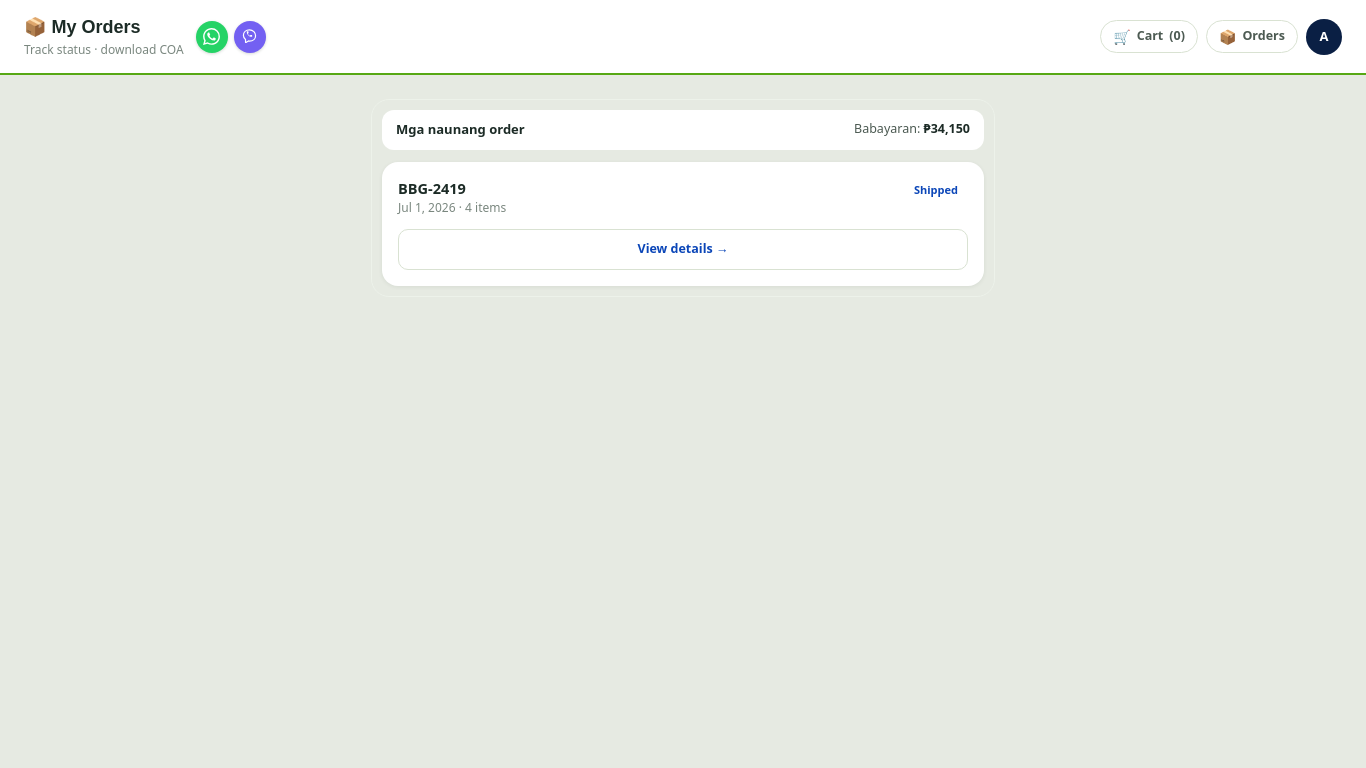
it: seeing everything in an order › lists every ordered item, not the first one and a tally
Click the text "BBG-2419": (432, 188) [398, 178, 466, 198]
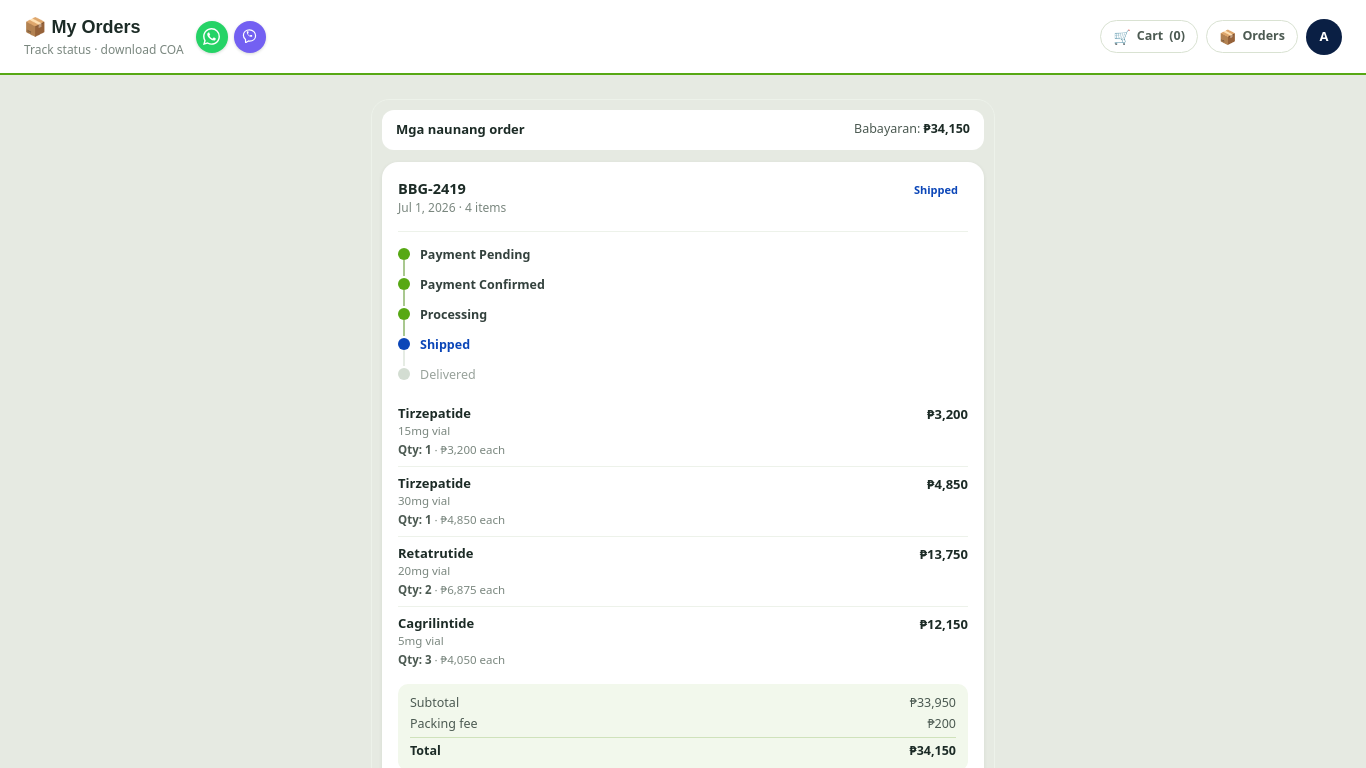
Now the text "Cagrilintide" is shown, box [398, 614, 474, 632]
Now the text "Tirzepatide" is shown 2 times, box [398, 404, 471, 422]; [398, 474, 471, 492]
Now the text "Retatrutide" is shown, box [398, 544, 473, 562]
